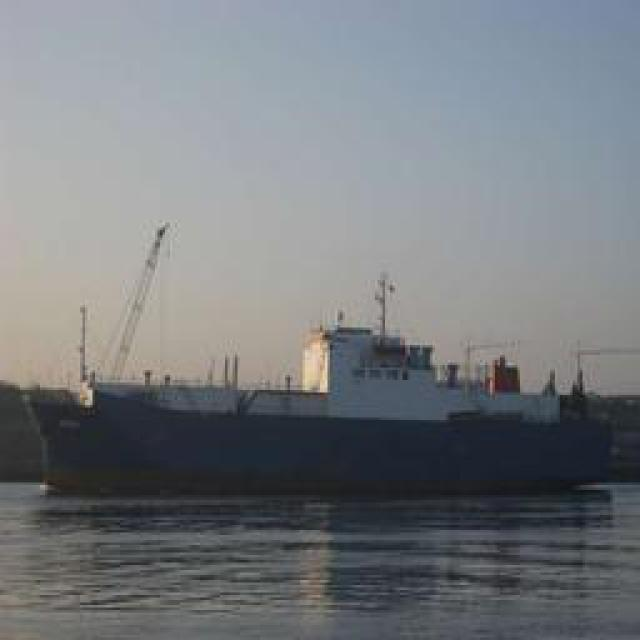Ship: (21, 310, 629, 495)
